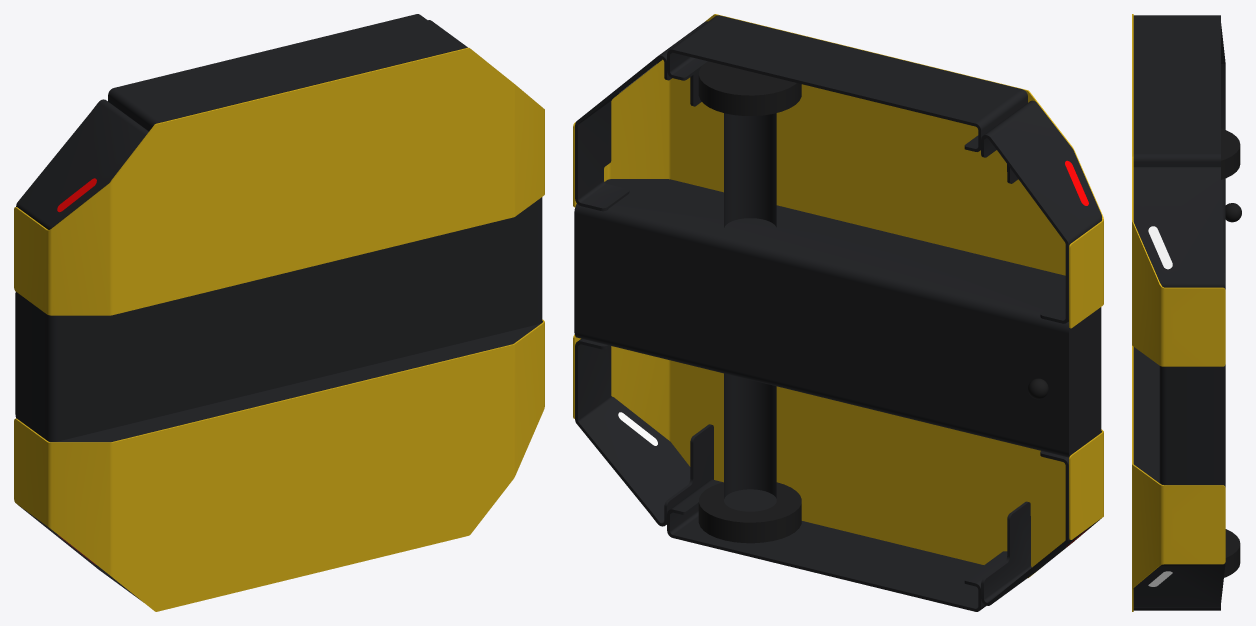
The model's file is dingo_d.glb.
3 views of the same model, side by side, from view 1: azimuth 30°, elevation 25°; view 2: azimuth 150°, elevation 25°; view 3: azimuth 270°, elevation 25° (orthographic). The views are drawn at different scales.
Visible parts, largest first — view 1: base_link; view 2: base_link; view 3: base_link.
Part boxes in pixels (box(x1,y1,x2,y2)): base_link: box(14, 14, 544, 611); base_link: box(573, 14, 1103, 611); base_link: box(1132, 14, 1241, 611).
Size of the model in its own units: 0.5512 by 0.5172 by 0.113.
